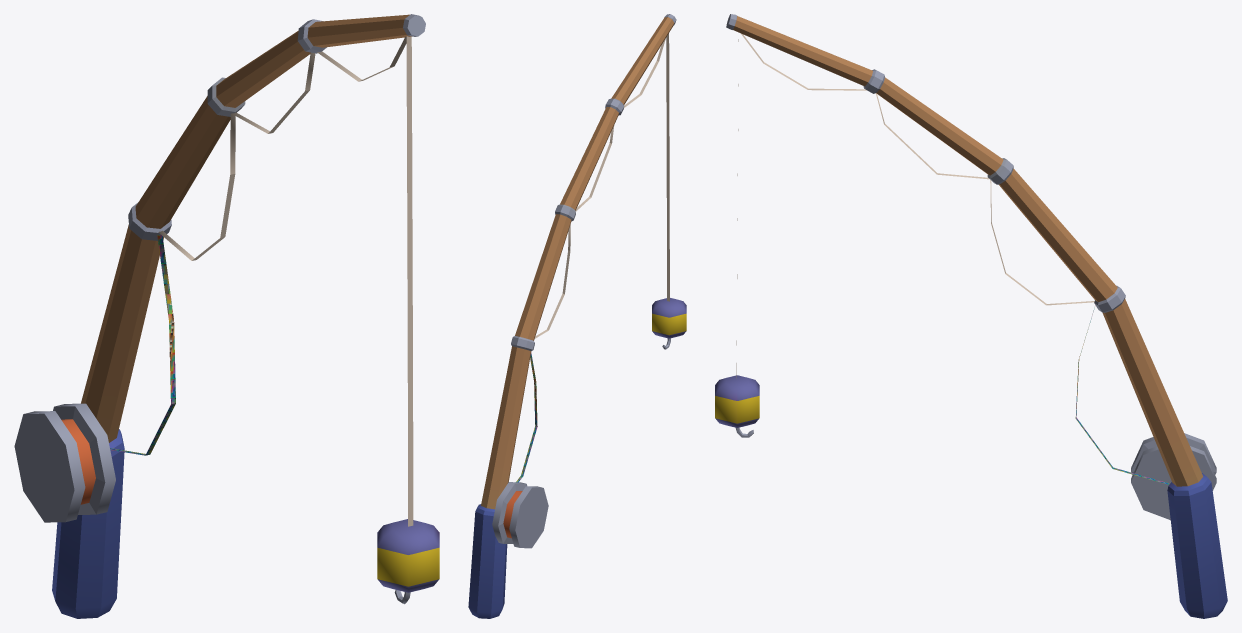
Rendered from fishing_rod.fbx.
3 renders of one model, left to right at view 1: azimuth 30°, elevation 25°; view 2: azimuth 150°, elevation 25°; view 3: azimuth 270°, elevation 25°, orthographic. The views are drawn at different scales.
Parts seen in each view (by area): view 1: ST_fishing_rod; view 2: ST_fishing_rod; view 3: ST_fishing_rod.
Part boxes in pixels (bbox=[...]): ST_fishing_rod: bbox=[14, 14, 439, 618]; ST_fishing_rod: bbox=[468, 14, 686, 618]; ST_fishing_rod: bbox=[715, 14, 1227, 618].
Size of the model in its own units: 17.3 by 154 by 119.
